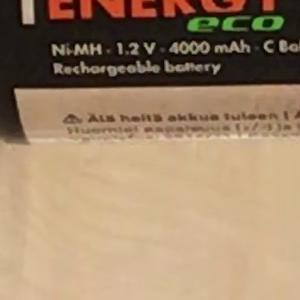NIMH: (43, 34, 110, 65)
